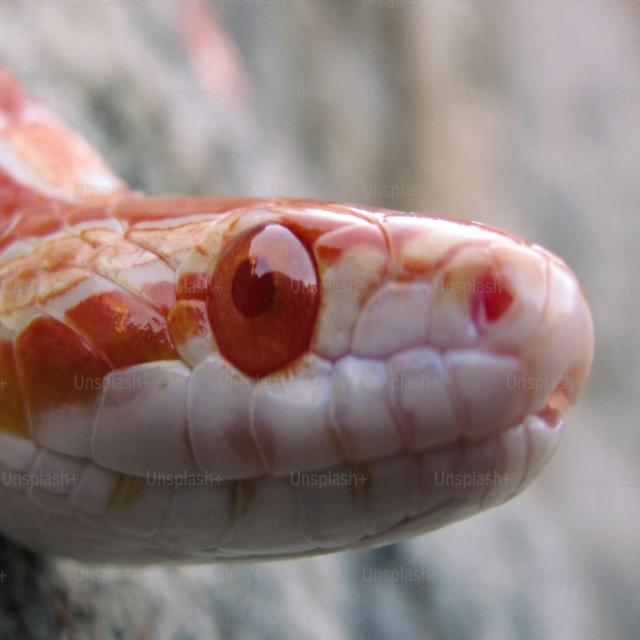Snake: (0, 0, 596, 567)
